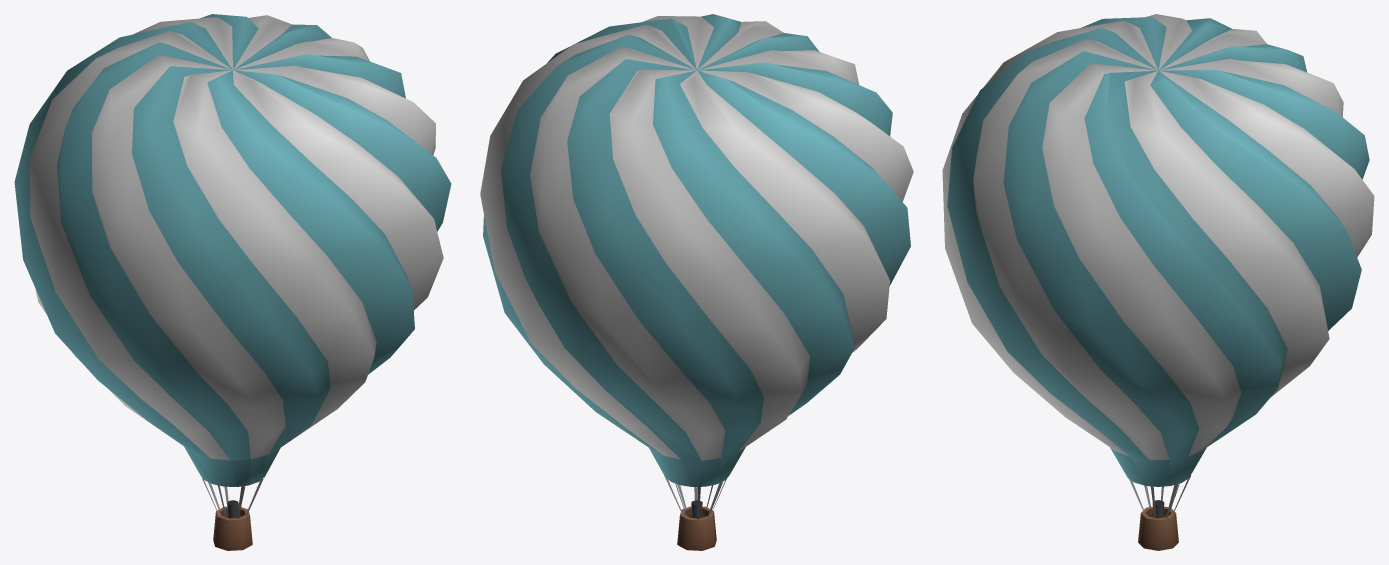
File: vehicles-aircraft-hot-air-balloon_v8.fbx
3 renders of one model, left to right at view 1: azimuth 30°, elevation 25°; view 2: azimuth 150°, elevation 25°; view 3: azimuth 270°, elevation 25°, orthographic.
Visible parts, largest first — view 1: Hot Air Balloon_v8; view 2: Hot Air Balloon_v8; view 3: Hot Air Balloon_v8.
Part boxes in pixels (x1,y1,x2,y2): Hot Air Balloon_v8: [14, 14, 451, 550]; Hot Air Balloon_v8: [480, 14, 913, 550]; Hot Air Balloon_v8: [942, 14, 1374, 550].
Size of the model in its own units: 19.61 by 25 by 19.61.
